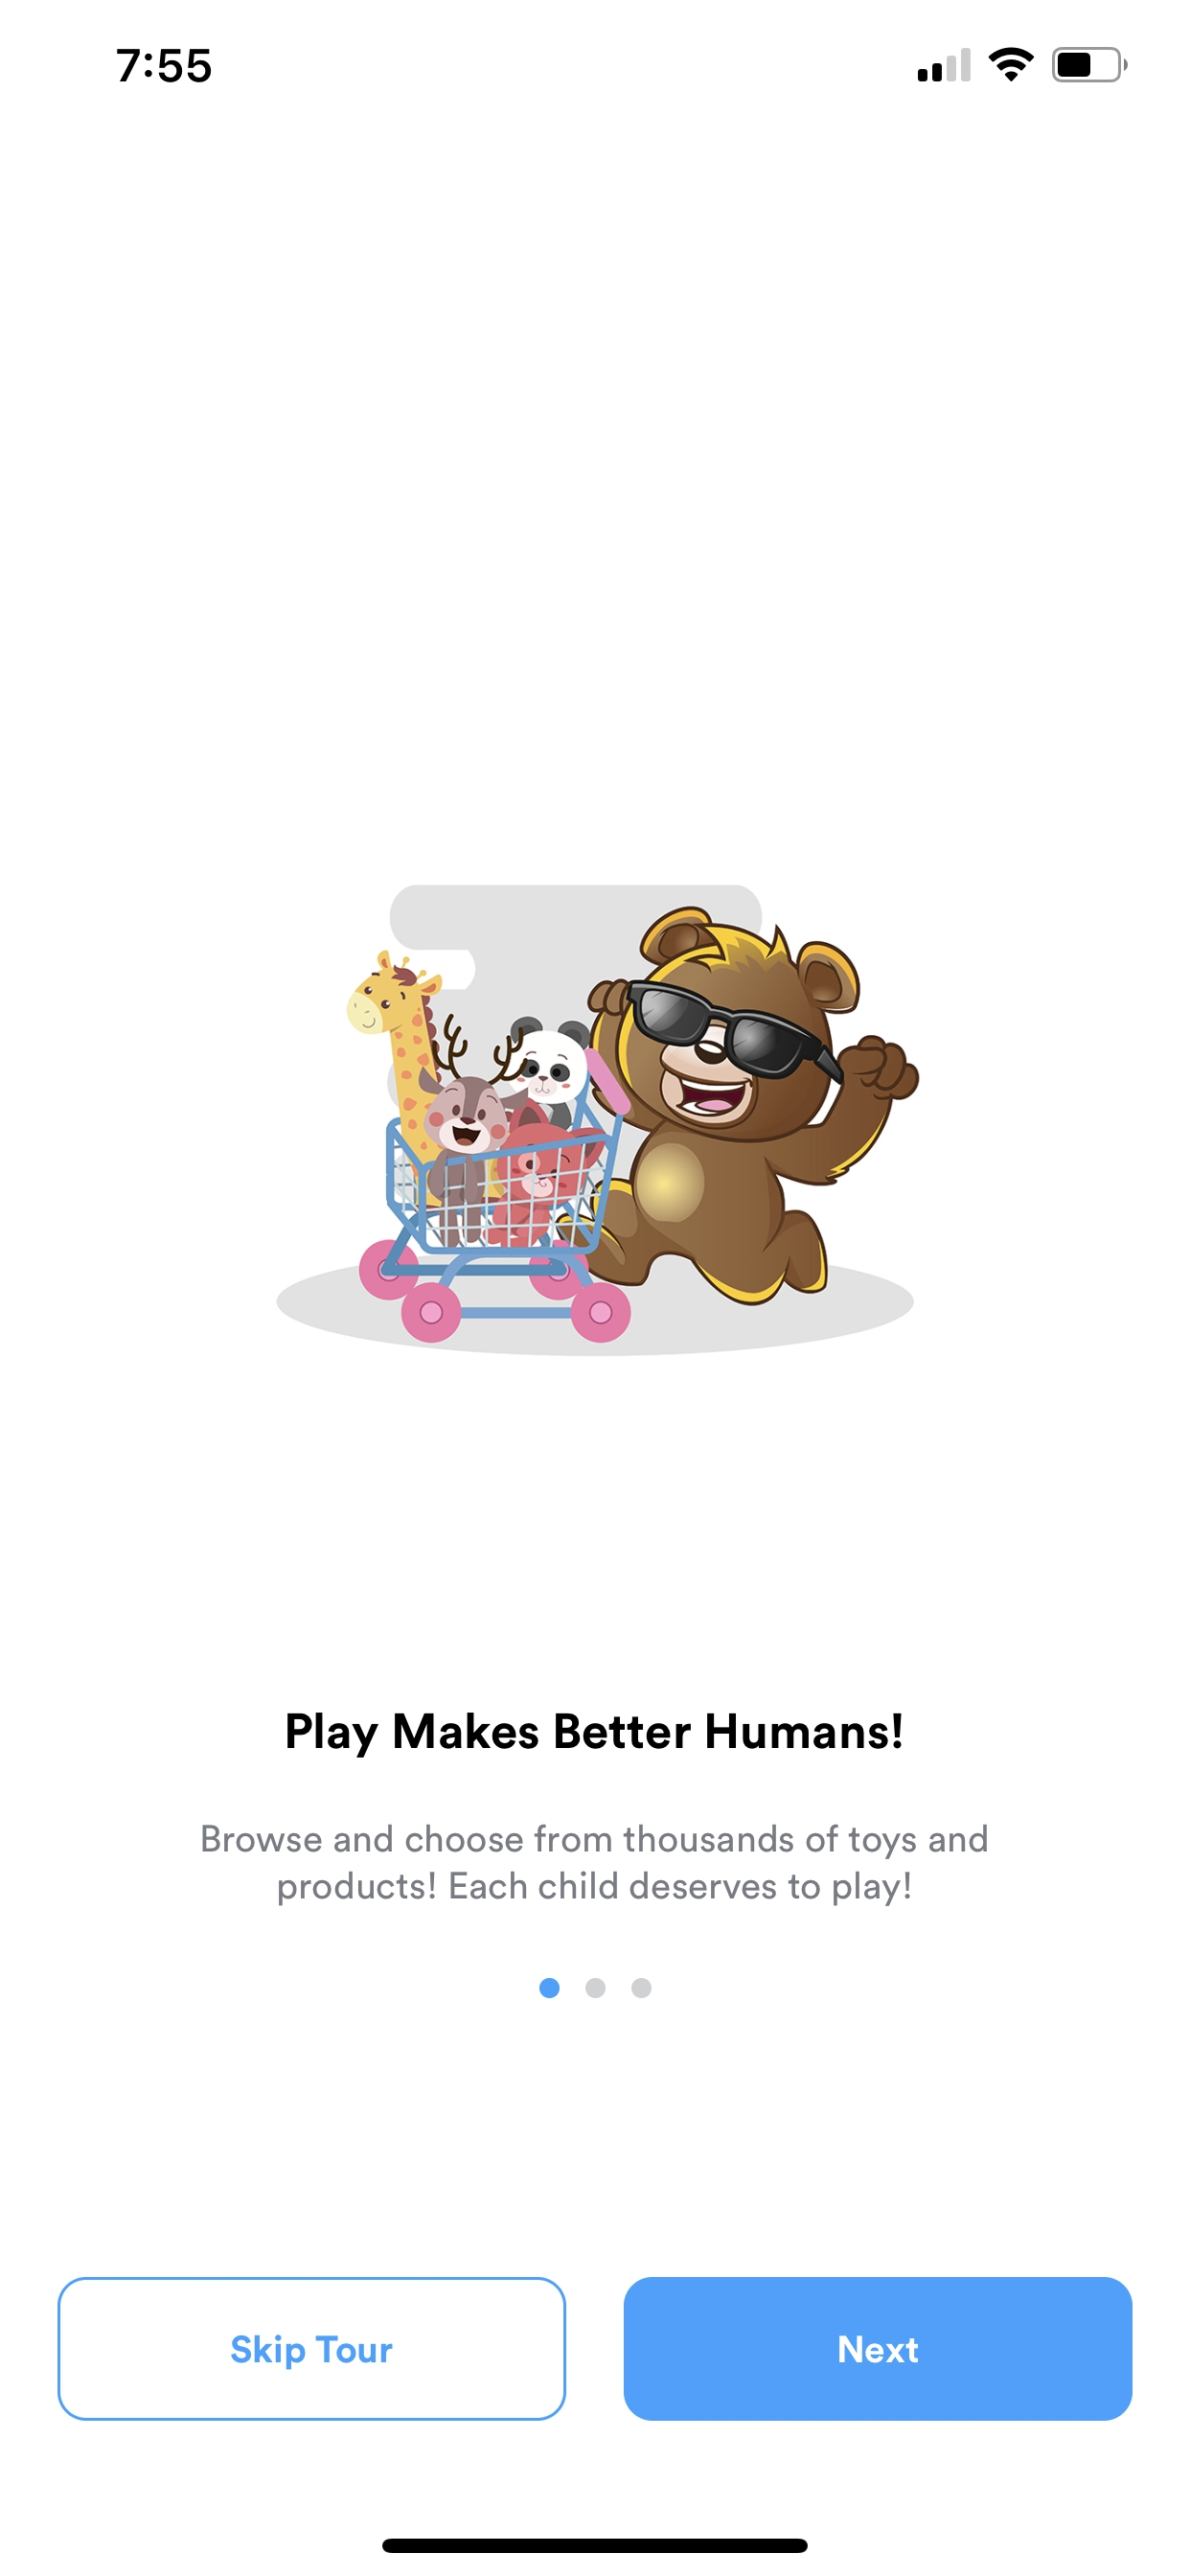Image: (276, 884, 919, 1355)
PageIndicator: (539, 1978, 651, 1998)
Text: (202, 1824, 986, 1906), (288, 1712, 902, 1758)
TextButton: (623, 2275, 1132, 2422), (58, 2275, 567, 2422)
UpperTaskBar: (117, 48, 1128, 84)
